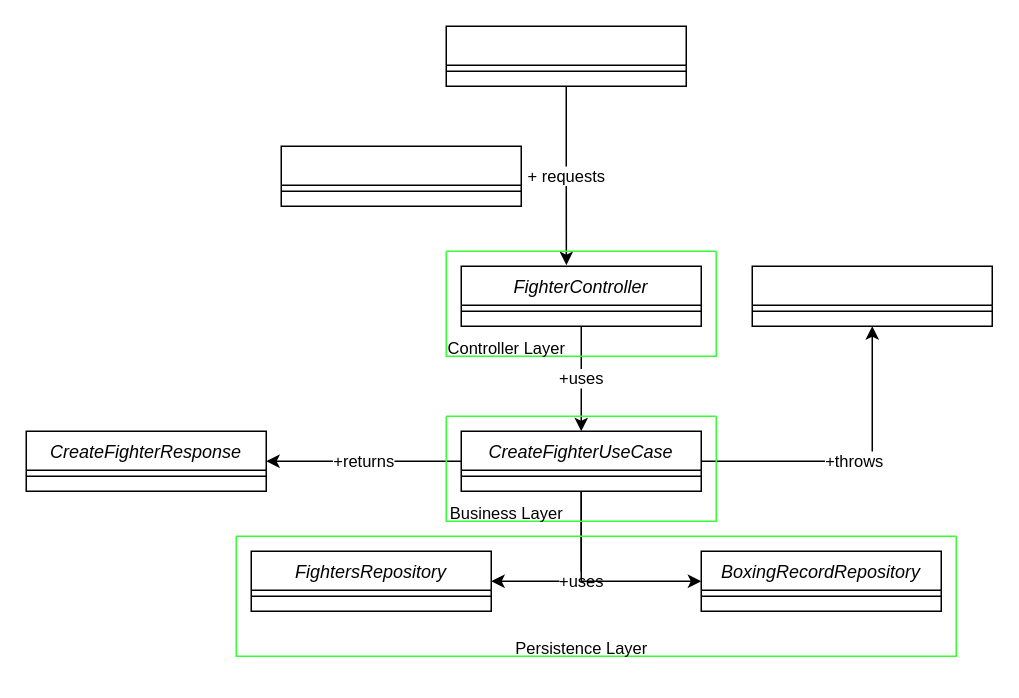
Some shapes in this 1019 by 698 pixel diagram are drawn without their labels. The centre of each missing label's shape, as x and y in pixels:
"CreateFighterRequest" belongs at pixel 400 175.
"FighterAlreadyExistsException" belongs at pixel 871 295.
"ReactJS FrontEnd" belongs at pixel 565 55.
